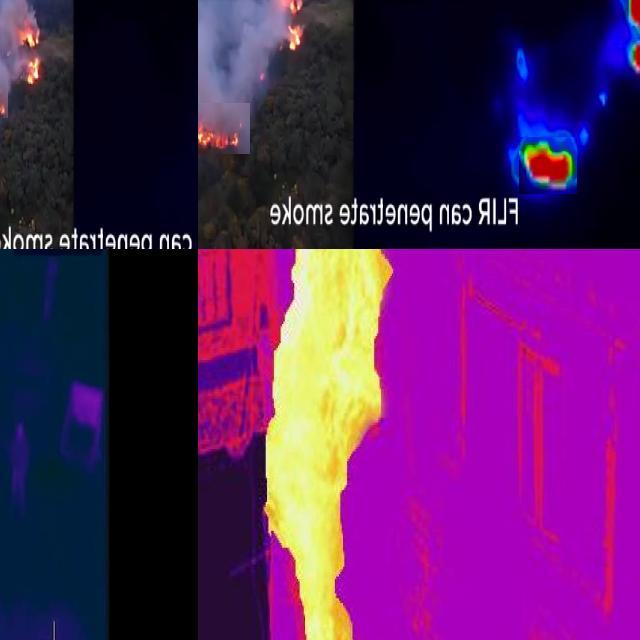fire: (262, 250, 395, 640), (519, 137, 577, 194), (622, 1, 640, 74)
